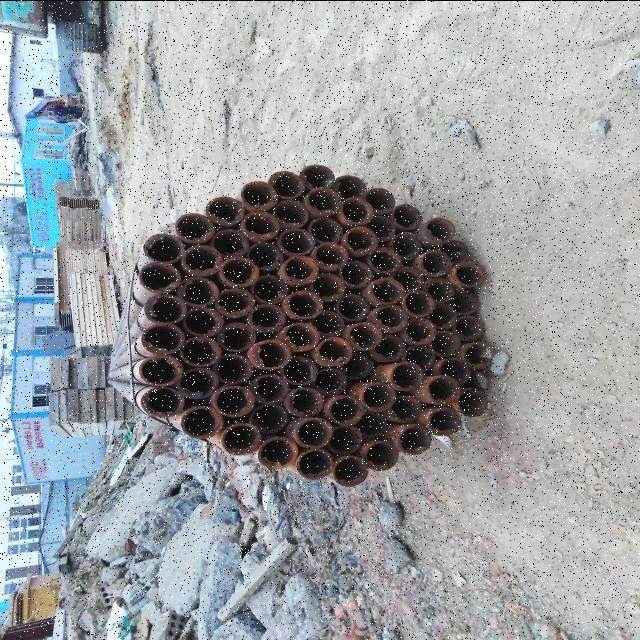pipe: (178, 404, 225, 439), (138, 353, 188, 385), (178, 241, 223, 276), (142, 230, 186, 264), (142, 322, 186, 356), (144, 292, 188, 324), (140, 386, 184, 418), (177, 368, 221, 400), (213, 385, 256, 417), (248, 339, 292, 370), (172, 212, 214, 244), (182, 336, 224, 368), (292, 415, 334, 447), (248, 373, 292, 403), (179, 274, 219, 306), (220, 256, 260, 288), (216, 286, 256, 318), (244, 238, 284, 270), (250, 272, 290, 304), (356, 380, 398, 410), (259, 437, 297, 470), (450, 258, 489, 290), (182, 305, 222, 336), (222, 423, 262, 454), (344, 321, 384, 352), (140, 262, 181, 292), (240, 178, 278, 210), (285, 290, 325, 320), (326, 396, 366, 426), (360, 439, 400, 469), (458, 340, 498, 370), (203, 196, 245, 224), (211, 227, 250, 257), (217, 321, 256, 351), (276, 226, 314, 256), (288, 388, 326, 418), (296, 448, 334, 478), (388, 360, 426, 390), (402, 341, 440, 371), (422, 374, 460, 404), (314, 240, 349, 272), (394, 426, 434, 454), (453, 387, 489, 418), (241, 211, 279, 240), (248, 404, 288, 431), (269, 169, 305, 199), (306, 186, 342, 216), (386, 394, 422, 424), (402, 316, 438, 346), (422, 214, 458, 244), (312, 368, 350, 396), (351, 410, 389, 438), (344, 226, 379, 256), (215, 354, 252, 382), (327, 425, 364, 453), (334, 456, 368, 486), (250, 304, 286, 332), (272, 198, 308, 226), (284, 322, 320, 350), (284, 358, 320, 386), (307, 216, 343, 244), (310, 272, 346, 300), (338, 198, 374, 226), (338, 260, 374, 288), (368, 332, 404, 360), (440, 236, 476, 264), (424, 409, 464, 434), (281, 258, 319, 284), (314, 340, 352, 366), (370, 304, 408, 330), (450, 313, 488, 339), (390, 230, 422, 260), (362, 187, 396, 215), (390, 202, 424, 230), (419, 248, 453, 276), (363, 213, 398, 240), (401, 289, 436, 316), (390, 266, 426, 292), (447, 290, 483, 316), (366, 245, 400, 272), (341, 351, 376, 377), (369, 278, 404, 304), (436, 357, 472, 382), (338, 292, 370, 320), (313, 310, 347, 336), (300, 164, 336, 188), (335, 175, 368, 201), (426, 278, 456, 304), (426, 303, 458, 327), (428, 330, 460, 354)
